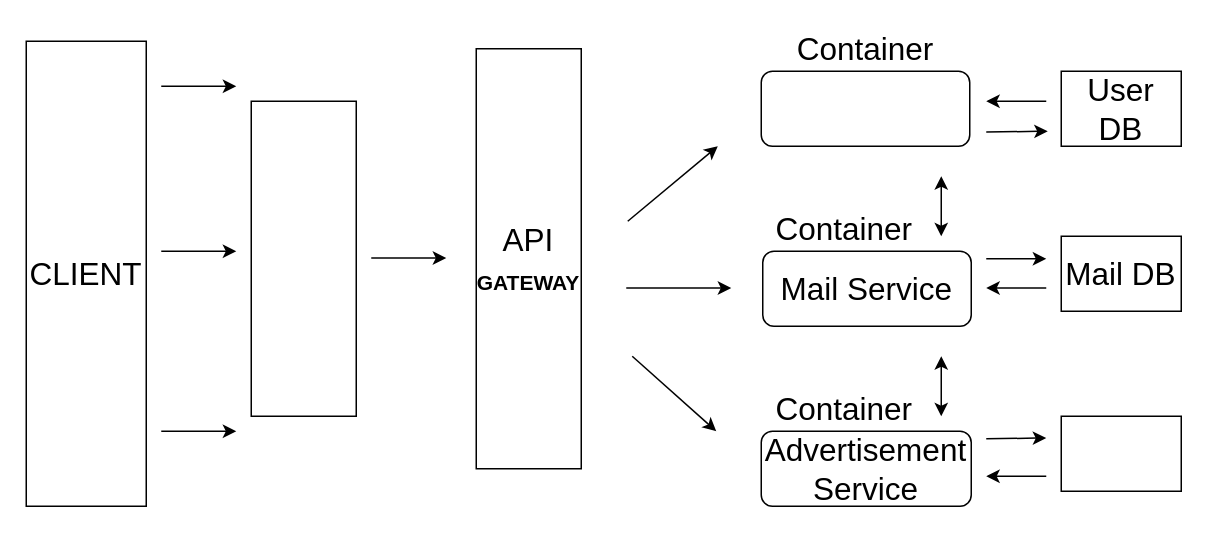
Image size: 1208x533. Some labels were removed from this diagram. Here are the shapes that lost their labels. From the top down, the box of each, then its label:
(760, 70, 970, 146): User Service
(250, 100, 356, 416): IDENTITY PROVIDER
(1060, 415, 1181, 491): Ad. DB
